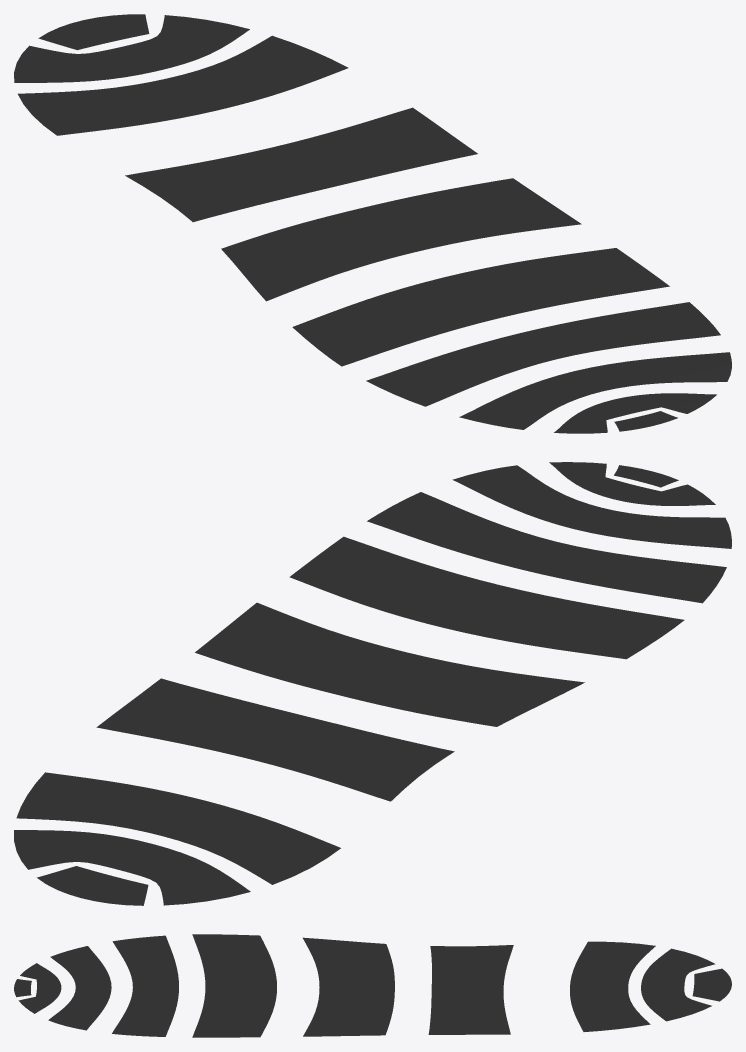
Rendered from shoes print.fbx.
3 renders of one model, top to bottom at view 1: azimuth 30°, elevation 25°; view 2: azimuth 150°, elevation 25°; view 3: azimuth 270°, elevation 25°, orthographic. The views are drawn at different scales.
Visible parts, largest first — view 1: Military Shoes_MilitaryShoes_MAT_0.001; view 2: Military Shoes_MilitaryShoes_MAT_0.001; view 3: Military Shoes_MilitaryShoes_MAT_0.001.
Boxes of the visible parts, x1=… form: Military Shoes_MilitaryShoes_MAT_0.001: x1=14, y1=14, x2=731, y2=433; Military Shoes_MilitaryShoes_MAT_0.001: x1=14, y1=462, x2=731, y2=905; Military Shoes_MilitaryShoes_MAT_0.001: x1=14, y1=934, x2=731, y2=1037.
Size of the model in its own units: 3.21 by 1.54e-06 by 9.44.
1 material, 1 textured.
